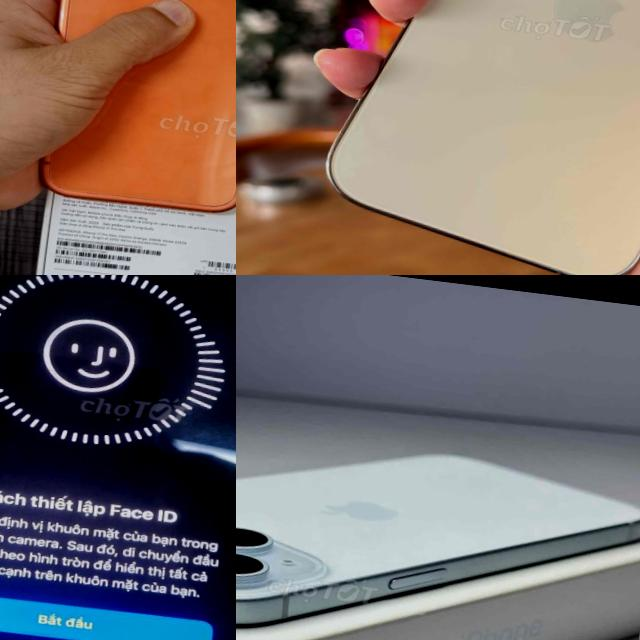gen_14: (308, 0, 640, 275)
gen_15: (236, 391, 640, 640)
gen_17: (31, 0, 236, 220)
gen_x_xs: (0, 275, 236, 640)
